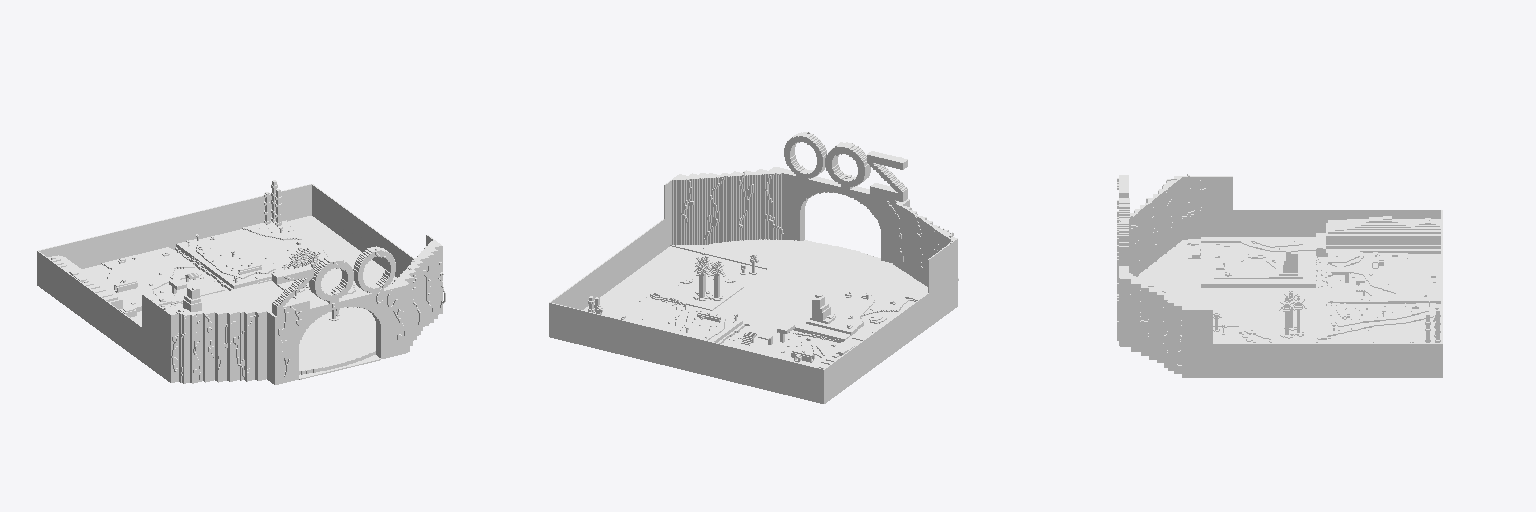
Rendered from zoo.obj.
3 views of the same model, side by side, from view 1: azimuth 30°, elevation 25°; view 2: azimuth 150°, elevation 25°; view 3: azimuth 270°, elevation 25° (orthographic).
Visible parts, largest first — view 1: object 1; view 2: object 1; view 3: object 1.
Boxes of the visible parts, x1,y1,x2,y2 form: object 1: [37, 180, 445, 384]; object 1: [549, 132, 958, 403]; object 1: [1117, 174, 1442, 377].
Bounding box in the file's own units: 25 × 9.6 × 25.6.